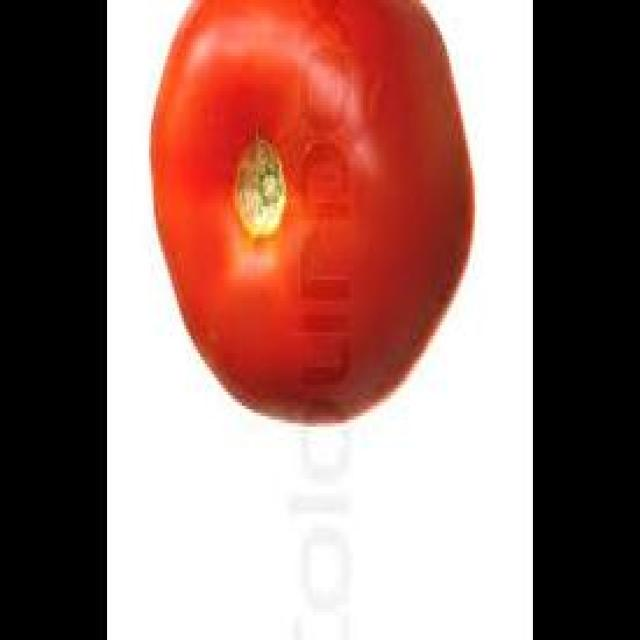Tomato: (143, 2, 490, 431)
